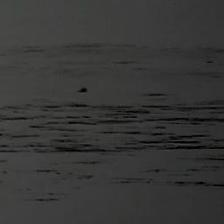surfer: (76, 86, 89, 93)
